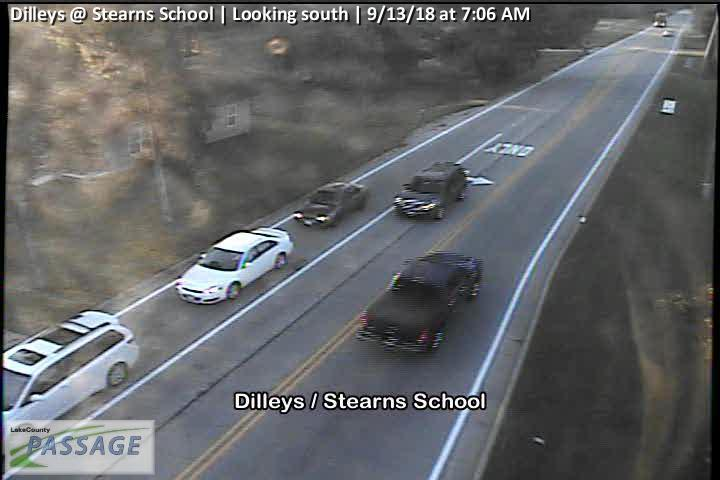SUV: (1, 308, 139, 443), (393, 159, 468, 221)
Sedan: (359, 251, 483, 354), (174, 226, 296, 304), (294, 181, 367, 229)
